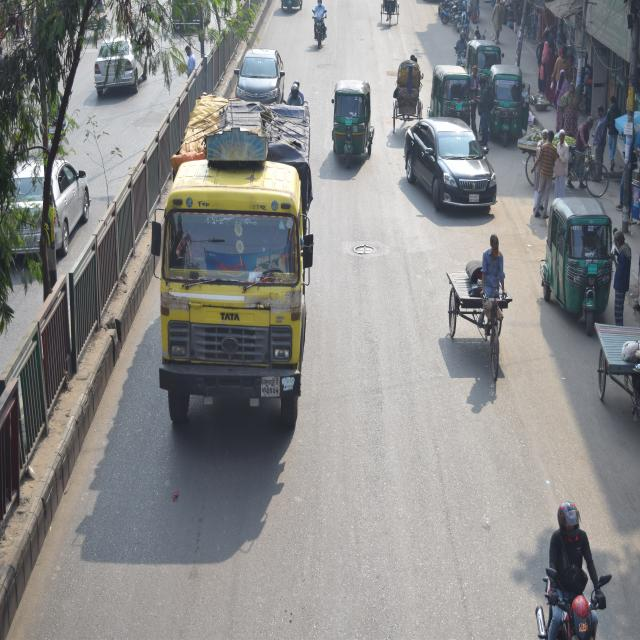car: (403, 116, 503, 219), (4, 154, 93, 252), (96, 28, 156, 94), (228, 39, 283, 108)
motorbike: (513, 564, 609, 640), (308, 6, 328, 54)
truck: (160, 90, 310, 420)
